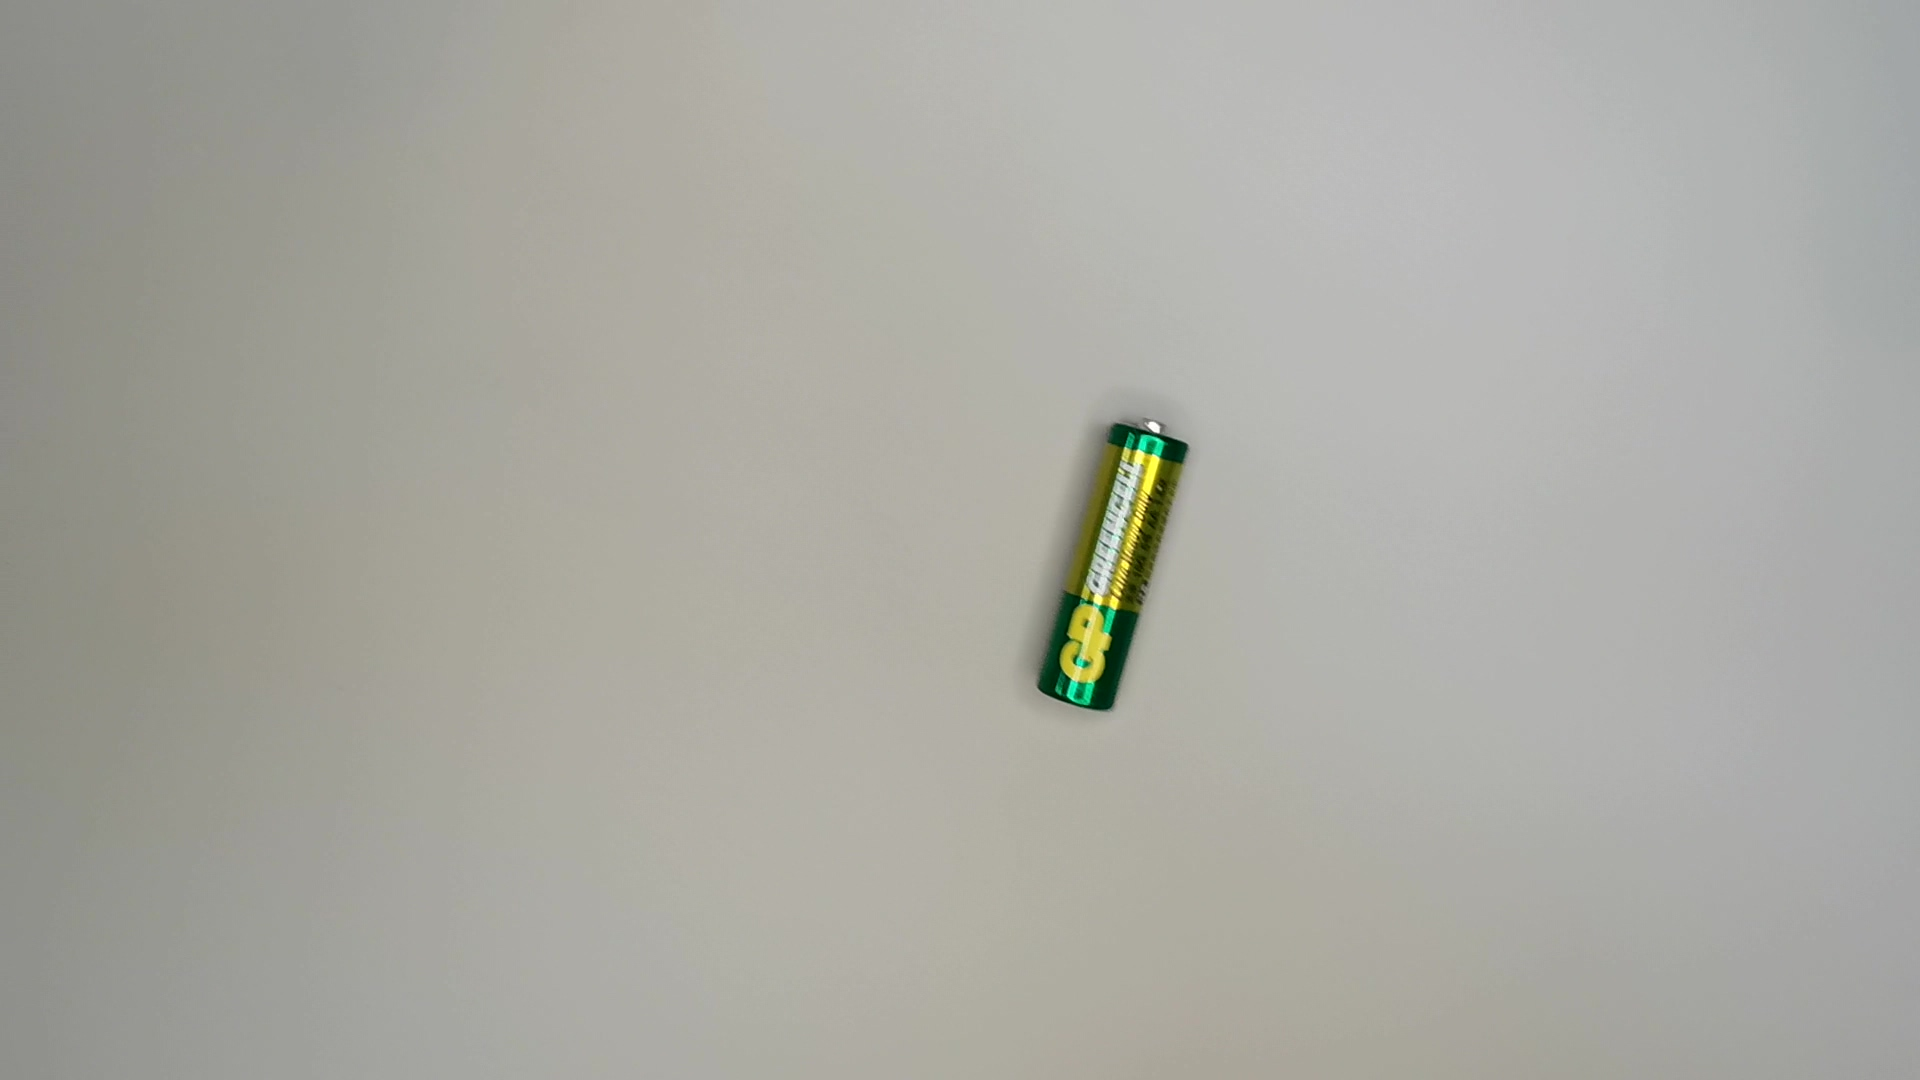battery: (1029, 413, 1193, 717)
